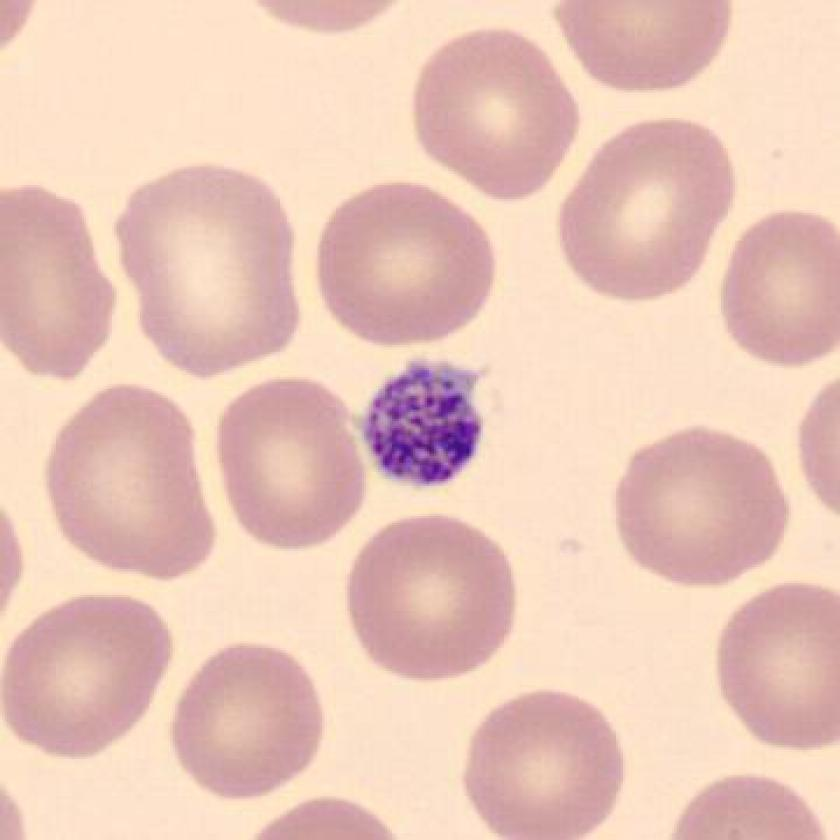platelets: (344, 348, 507, 499)
